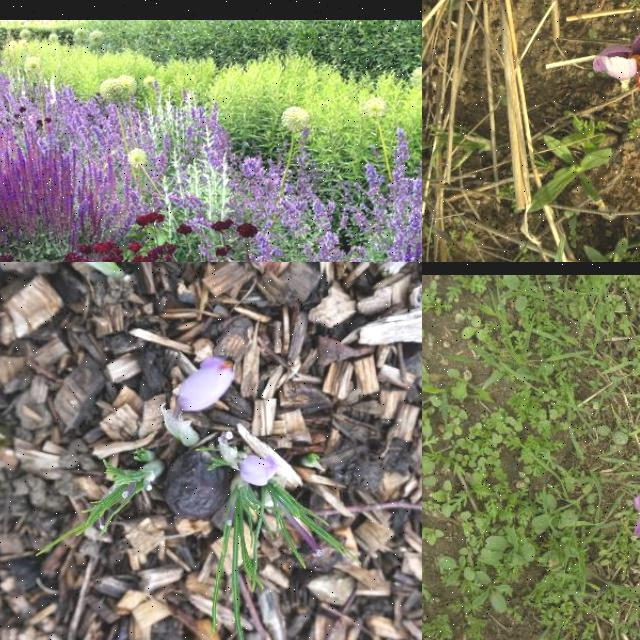flower: (592, 16, 640, 137), (180, 358, 237, 412), (240, 456, 278, 486)
